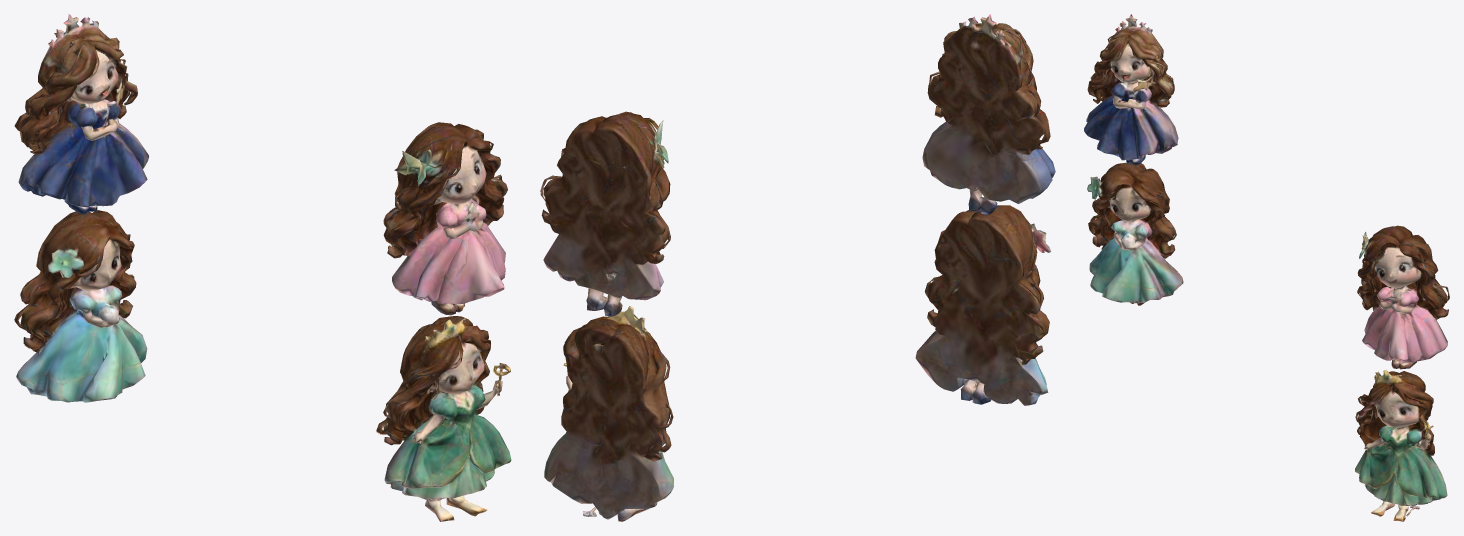
3 renders of one model, left to right at view 1: azimuth 30°, elevation 25°; view 2: azimuth 150°, elevation 25°; view 3: azimuth 330°, elevation 25°, orthographic. The views are drawn at different scales.
Parts seen in each view (by area): view 1: Mesh 2, Mesh 8, Mesh 7, Mesh 3; view 2: Mesh 2, Mesh 7, Mesh 8, Mesh 3; view 3: Mesh 2, Mesh 8, Mesh 7, Mesh 3.
Boxes of the visible parts, x1=… form: Mesh 2: x1=14, y1=210, x2=147, y2=402; Mesh 8: x1=383, y1=122, x2=507, y2=315; Mesh 7: x1=376, y1=316, x2=511, y2=521; Mesh 3: x1=14, y1=14, x2=148, y2=213; Mesh 2: x1=915, y1=205, x2=1050, y2=405; Mesh 7: x1=544, y1=306, x2=673, y2=521; Mesh 8: x1=540, y1=111, x2=670, y2=316; Mesh 3: x1=922, y1=14, x2=1055, y2=214; Mesh 2: x1=1087, y1=162, x2=1183, y2=305; Mesh 8: x1=1357, y1=225, x2=1449, y2=369; Mesh 7: x1=1355, y1=369, x2=1447, y2=521; Mesh 3: x1=1084, y1=14, x2=1178, y2=165.
Size of the model in its own units: 1.69 by 1.9 by 0.2249.
4 materials, 4 textured.
